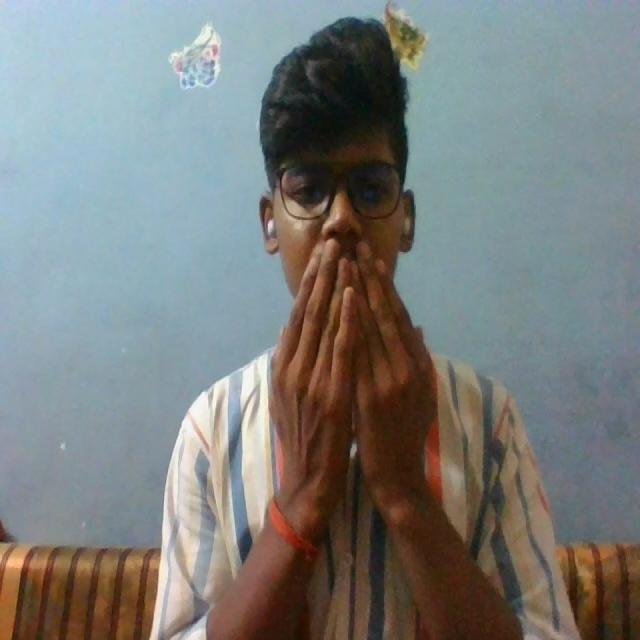Thanks: (236, 234, 458, 514)
